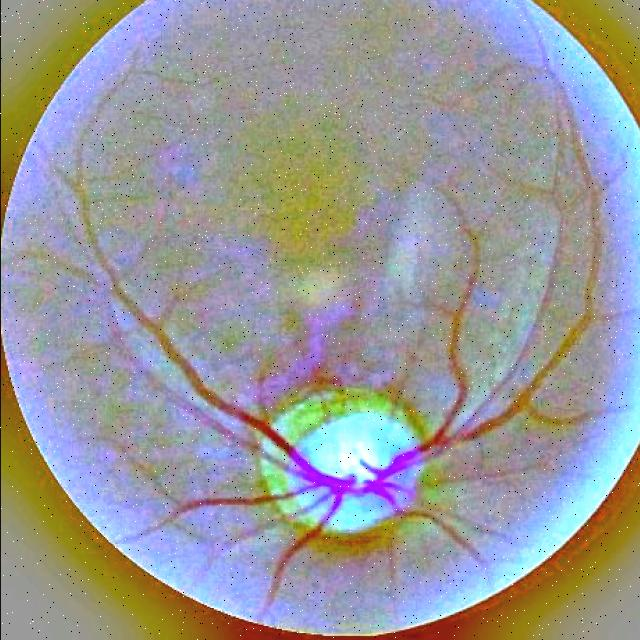Nerves: (177, 366, 547, 608), (132, 310, 348, 486), (373, 433, 444, 483), (289, 525, 324, 555)
Optic Disk: (262, 391, 420, 534)
